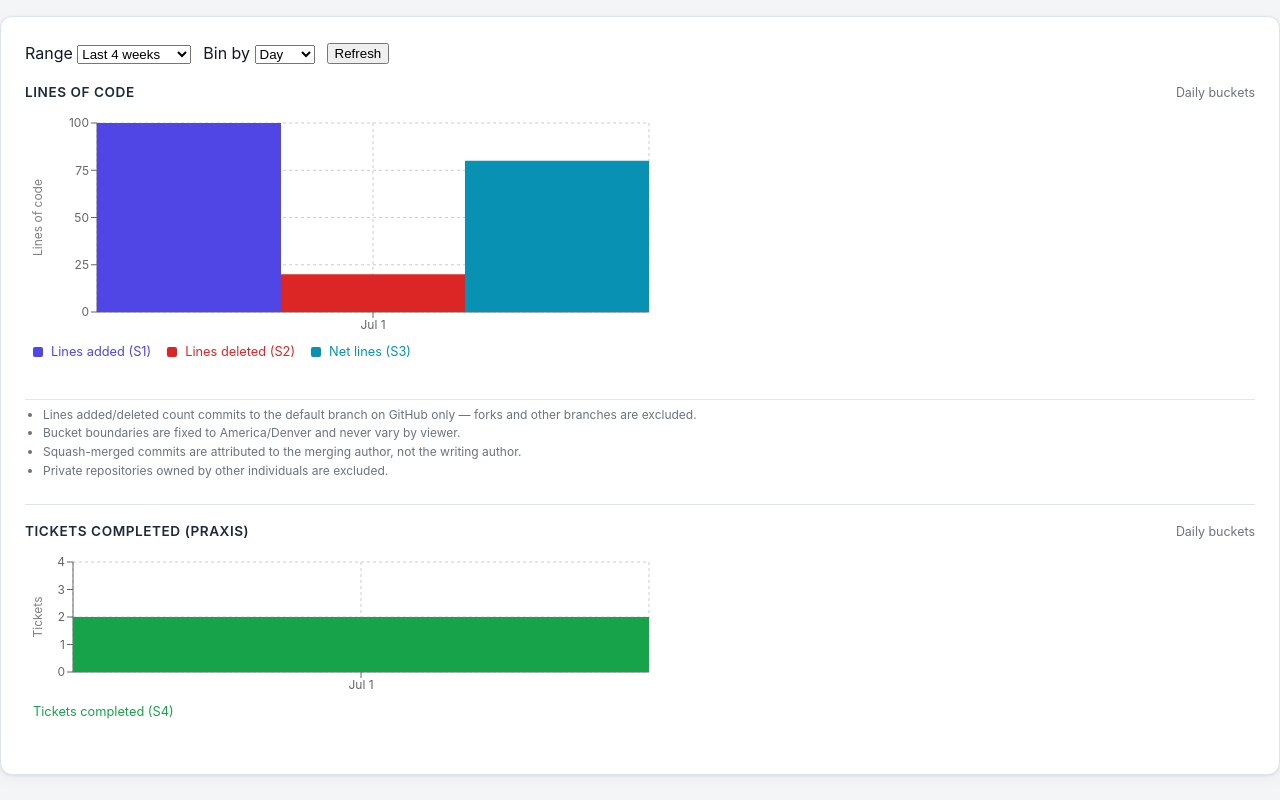
Test: ProductivityPanel bin-by dropdown › selecting Week refetches with bucketUnit=week
The width and height of the screenshot is (1280, 800).
Select "Week" in the dropdown with test id "productivity-bucket-unit" at (285, 54), box [255,45,315,64]
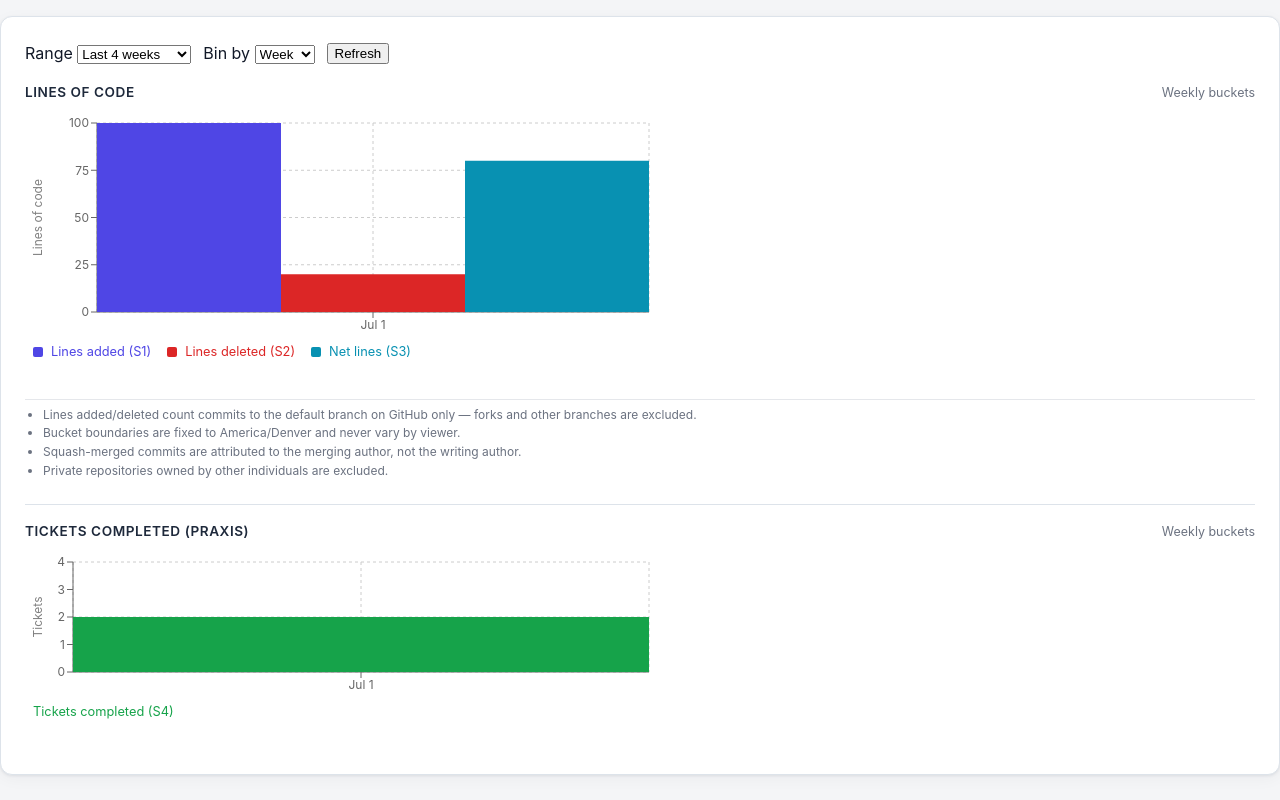
expect the dropdown with test id "productivity-bucket-unit" shows "Week": met, box [255,45,315,64]
